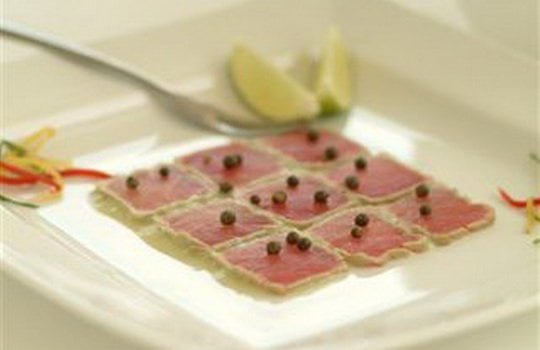sandwich: (38, 132, 504, 302)
